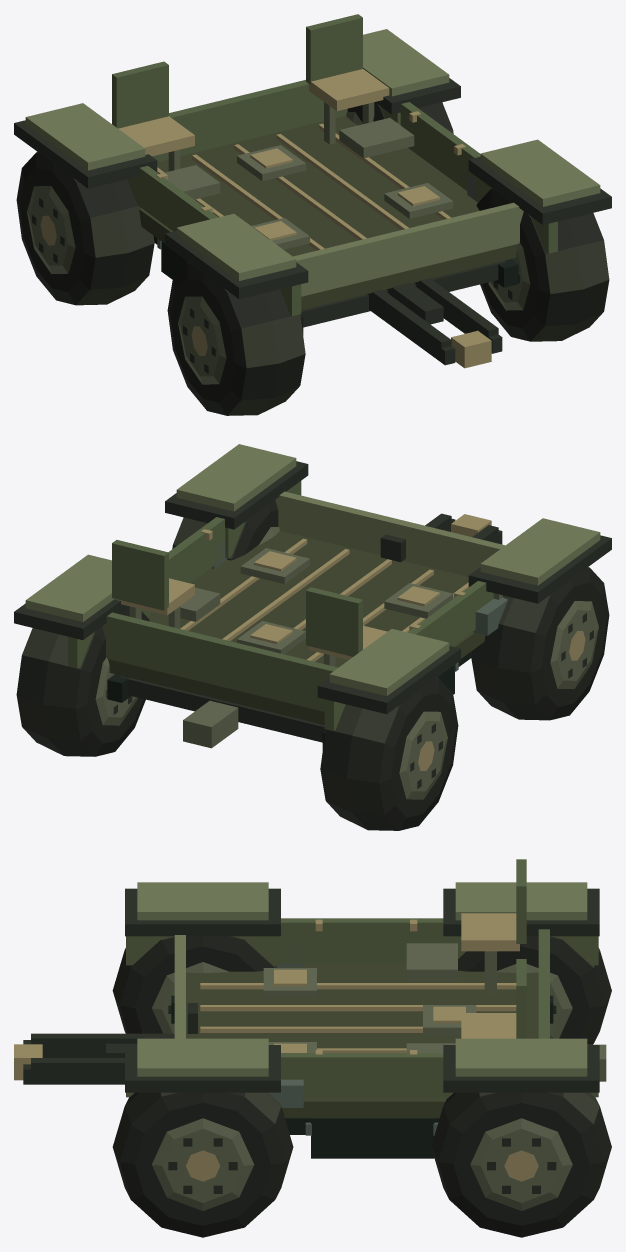
File: military_wagon_anti_air.glb
3 renders of one model, top to bottom at view 1: azimuth 30°, elevation 25°; view 2: azimuth 150°, elevation 25°; view 3: azimuth 270°, elevation 25°, orthographic. The views are drawn at different scales.
Visible parts, largest first — view 1: WagonDeck.005, AllTerrainTire.020, AllTerrainTire.022, AllTerrainTire.021, DrawbarFrame.005, AllTerrainTire.023; view 2: WagonDeck.005, AllTerrainTire.022, AllTerrainTire.020, AllTerrainTire.023, AllTerrainTire.021, WagonDetails_anti_air, DrawbarFrame.005; view 3: WagonDeck.005, AllTerrainTire.023, AllTerrainTire.021, AllTerrainTire.020, AllTerrainTire.022, DrawbarFrame.005, WagonDetails_anti_air.
Boxes of the visible parts, x1,y1,x2,y2 form: WagonDeck.005: (14, 14, 611, 348); AllTerrainTire.020: (167, 262, 305, 415); AllTerrainTire.022: (16, 152, 154, 305); AllTerrainTire.021: (476, 188, 609, 341); DrawbarFrame.005: (369, 291, 502, 368); AllTerrainTire.023: (346, 102, 453, 133); WagonDeck.005: (14, 444, 611, 749); AllTerrainTire.022: (320, 677, 458, 830); AllTerrainTire.020: (471, 567, 609, 720); AllTerrainTire.023: (16, 606, 149, 756); AllTerrainTire.021: (172, 500, 279, 560); WagonDetails_anti_air: (211, 534, 507, 635); DrawbarFrame.005: (441, 514, 502, 544); WagonDeck.005: (31, 859, 606, 1158); AllTerrainTire.023: (431, 1092, 611, 1237); AllTerrainTire.021: (112, 1092, 293, 1237); AllTerrainTire.020: (112, 936, 276, 1033); AllTerrainTire.022: (458, 936, 611, 1044); DrawbarFrame.005: (14, 1040, 124, 1084); WagonDetails_anti_air: (187, 945, 303, 1107).
Bounding box in the file's own units: 4.48 × 2.45 × 5.82.
Materials: 1 (1 with a texture image).
